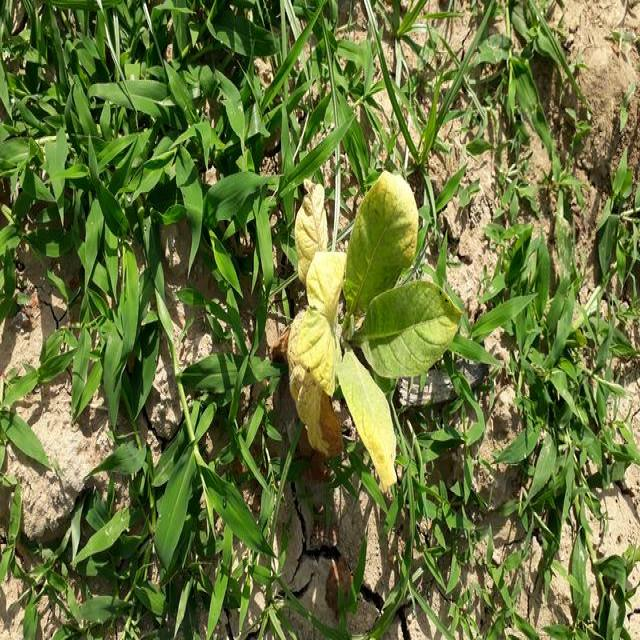crop: (278, 158, 464, 502)
